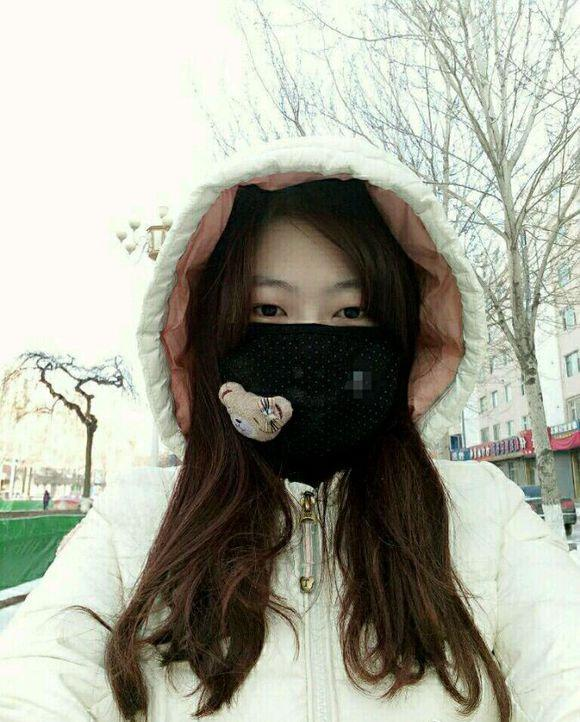OK: (218, 269, 402, 453)
